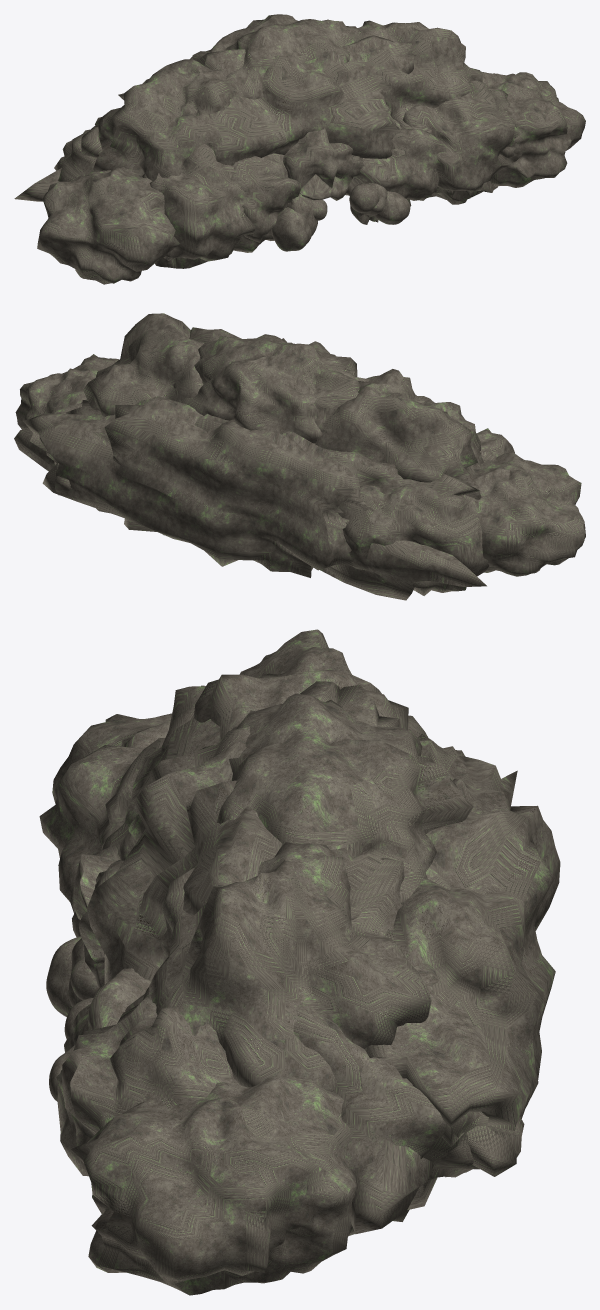
The model's file is SM_cave_mountain.glb.
The picture shows the model from 3 angles, top to bottom: view 1: azimuth 30°, elevation 25°; view 2: azimuth 150°, elevation 25°; view 3: azimuth 270°, elevation 25°; orthographic projection. The views are drawn at different scales.
Visible parts, largest first — view 1: SM_cave_mountain; view 2: SM_cave_mountain; view 3: SM_cave_mountain.
Boxes of the visible parts, left/top/right/bottom form: SM_cave_mountain: left=14, top=14, right=585, bottom=284; SM_cave_mountain: left=14, top=313, right=585, bottom=600; SM_cave_mountain: left=39, top=629, right=560, bottom=1295.
Bounding box in the file's own units: 81.02 × 26 × 34.29.
1 material, 1 textured.
